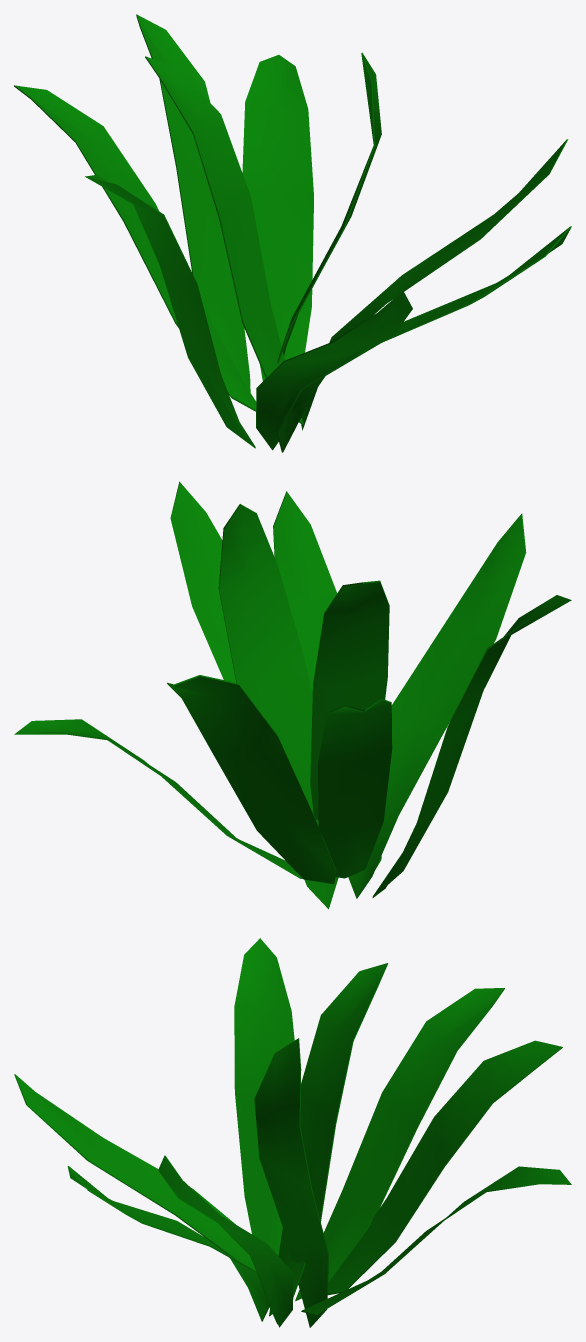
The model's file is New bush.fbx.
3 renders of one model, top to bottom at view 1: azimuth 30°, elevation 25°; view 2: azimuth 150°, elevation 25°; view 3: azimuth 270°, elevation 25°, orthographic. The views are drawn at different scales.
Parts seen in each view (by area): view 1: polySurface8; view 2: polySurface8; view 3: polySurface8.
Part boxes in pixels (x1,y1,x2,y2): polySurface8: (14,14,571,452); polySurface8: (14,481,571,909); polySurface8: (14,938,571,1327).
Size of the model in its own units: 14.71 by 11.93 by 18.16.
